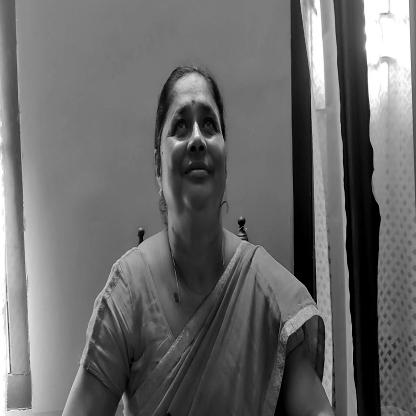Distracted: (165, 64, 234, 248)
